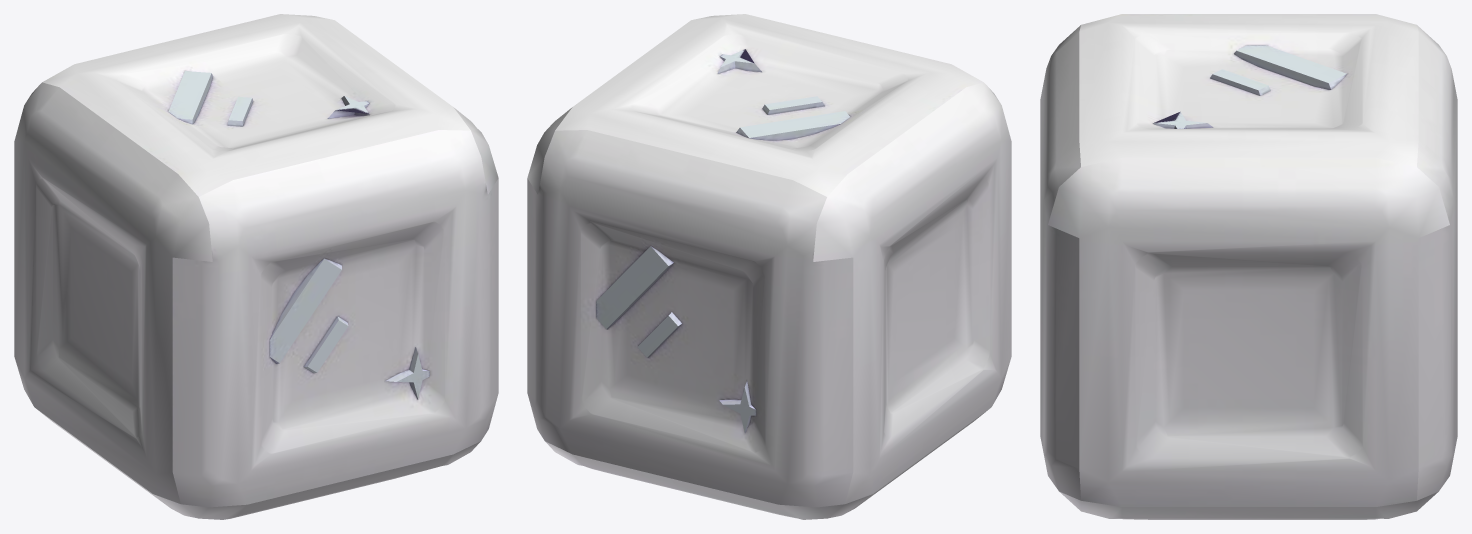
File: buz1.glb
3 views of the same model, side by side, from view 1: azimuth 30°, elevation 25°; view 2: azimuth 150°, elevation 25°; view 3: azimuth 270°, elevation 25° (orthographic). The views are drawn at different scales.
Visible parts, largest first — view 1: buz1; view 2: buz1; view 3: buz1.
Part boxes in pixels (left/top/right/bottom): buz1: left=14, top=14, right=498, bottom=519; buz1: left=527, top=14, right=1011, bottom=519; buz1: left=1040, top=14, right=1457, bottom=519.
Bounding box in the file's own units: 1.51 × 1.51 × 1.51.
1 material, 1 textured.
